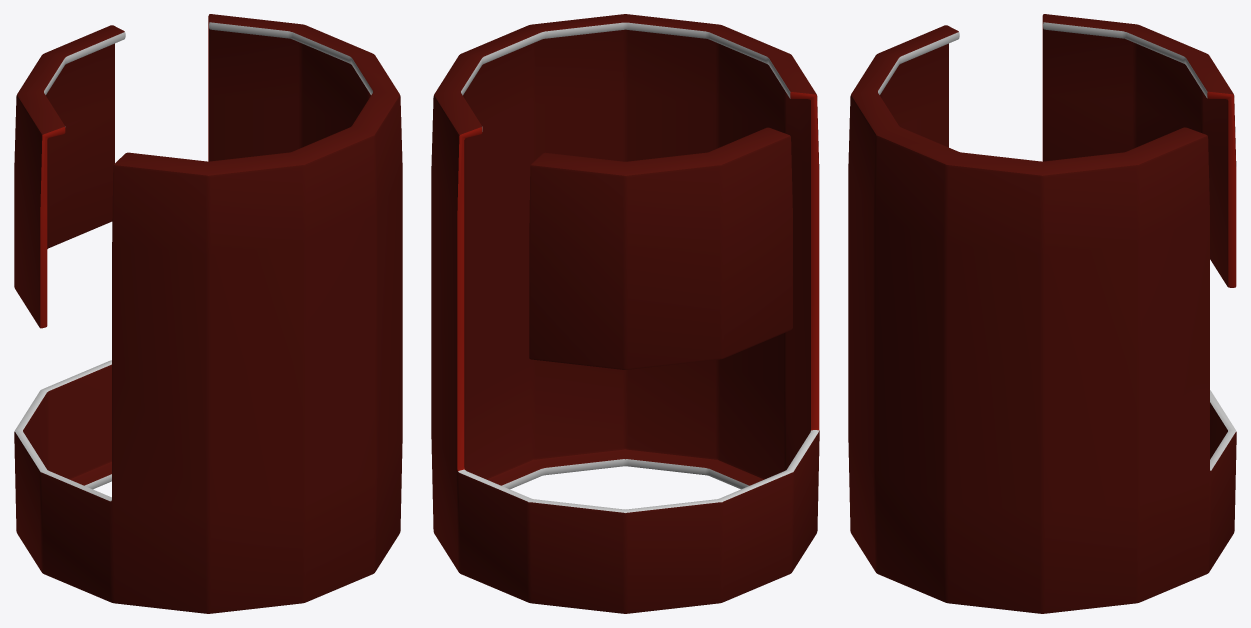
Rendered from cilindro_rotativo_fixed.fbx.
3 views of the same model, side by side, from view 1: azimuth 30°, elevation 25°; view 2: azimuth 150°, elevation 25°; view 3: azimuth 270°, elevation 25° (orthographic).
Parts seen in each view (by area): view 1: CylinderBroken_low; view 2: CylinderBroken_low; view 3: CylinderBroken_low.
Part boxes in pixels (x1,y1,x2,y2): CylinderBroken_low: (14, 14, 402, 613); CylinderBroken_low: (431, 14, 819, 613); CylinderBroken_low: (848, 14, 1236, 613).
Size of the model in its own units: 41.11 by 51.92 by 41.11.
